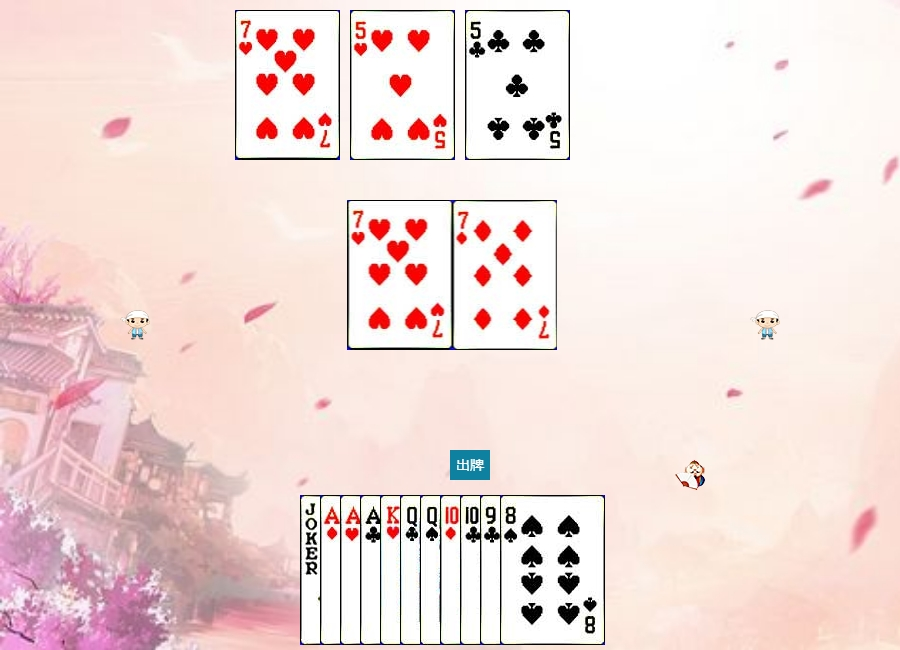10~1: (440, 495, 545, 645)
10~2: (460, 495, 565, 645)
12~2: (400, 495, 505, 645)
12~4: (420, 495, 525, 645)
13~3: (380, 495, 485, 645)
14~1: (320, 495, 425, 645)
14~2: (360, 495, 465, 645)
14~3: (340, 495, 445, 645)
17~3: (300, 495, 405, 645)
5~2: (465, 10, 570, 160)
5~3: (350, 10, 455, 160)
7~1: (453, 200, 558, 350)
7~3: (235, 10, 340, 160), (348, 200, 453, 350)
8~4: (500, 495, 605, 645)
9~2: (480, 495, 585, 645)
